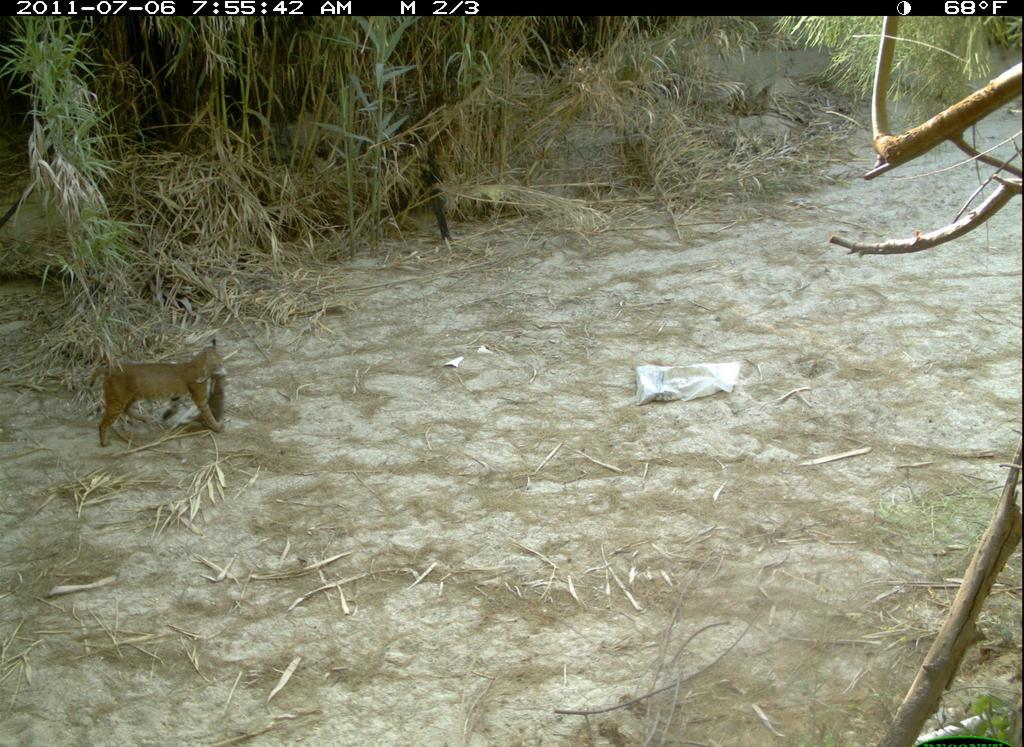rabbit: (183, 366, 229, 432)
